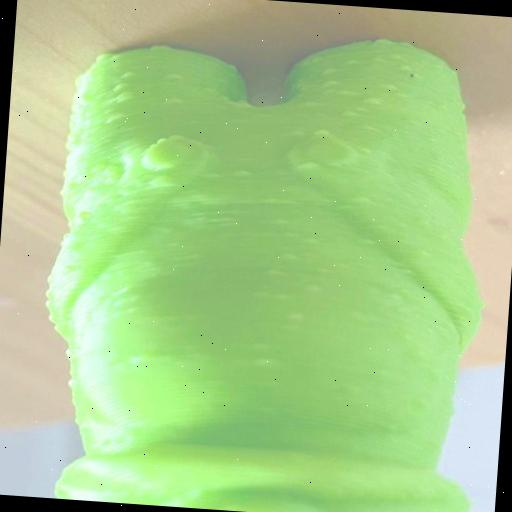blobs: (295, 158, 325, 175), (282, 308, 308, 326), (230, 98, 256, 112), (262, 266, 284, 280), (232, 166, 254, 180), (116, 89, 136, 104), (304, 234, 324, 248), (364, 92, 384, 106), (314, 126, 332, 141), (302, 282, 324, 294), (164, 94, 182, 108), (336, 86, 357, 98), (281, 252, 300, 264), (271, 216, 288, 228), (354, 194, 370, 206), (304, 98, 320, 110), (164, 72, 182, 82), (342, 108, 360, 118), (386, 50, 404, 60), (397, 62, 415, 72), (354, 144, 372, 154), (166, 132, 188, 140), (359, 238, 376, 248), (120, 68, 134, 80), (342, 57, 360, 66), (114, 81, 128, 92), (288, 127, 303, 137), (322, 76, 337, 86), (323, 66, 337, 74)
